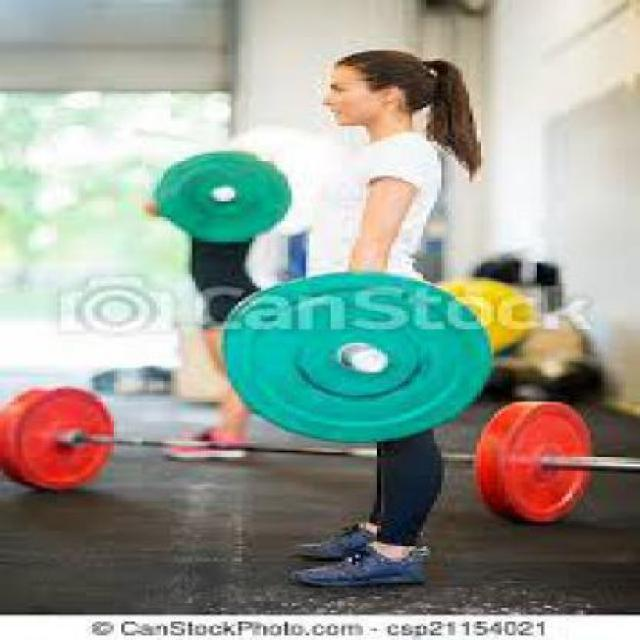Barbell: (344, 342, 410, 384)
